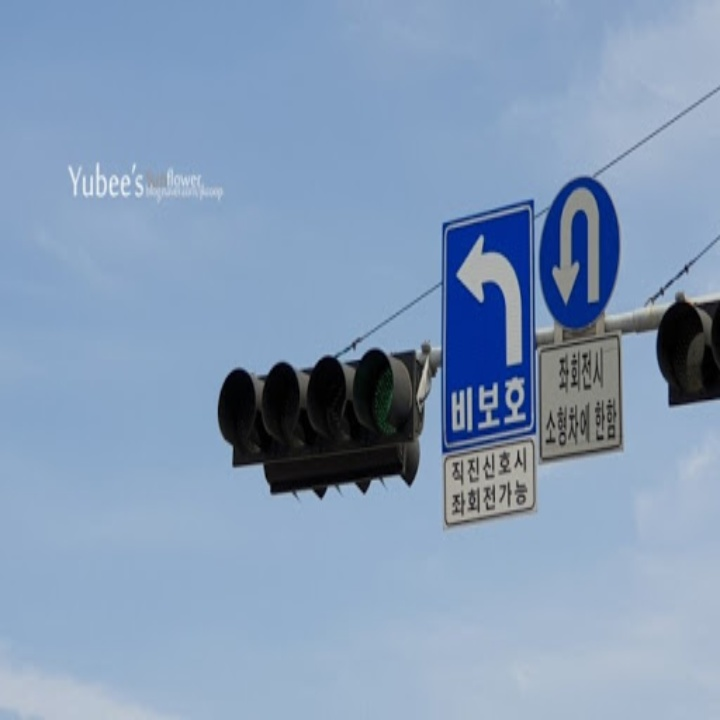left: (450, 229, 530, 368)
